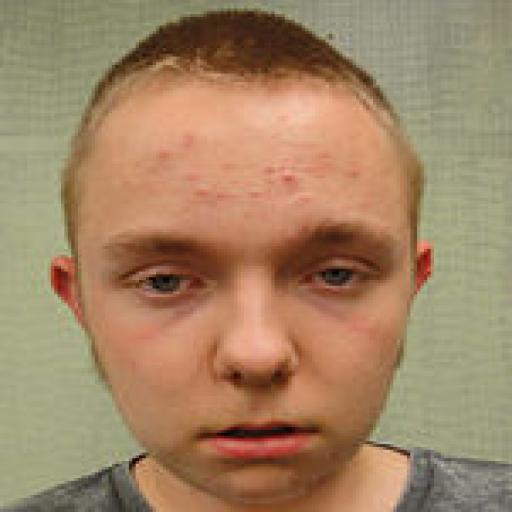Autism: (15, 11, 508, 512)
